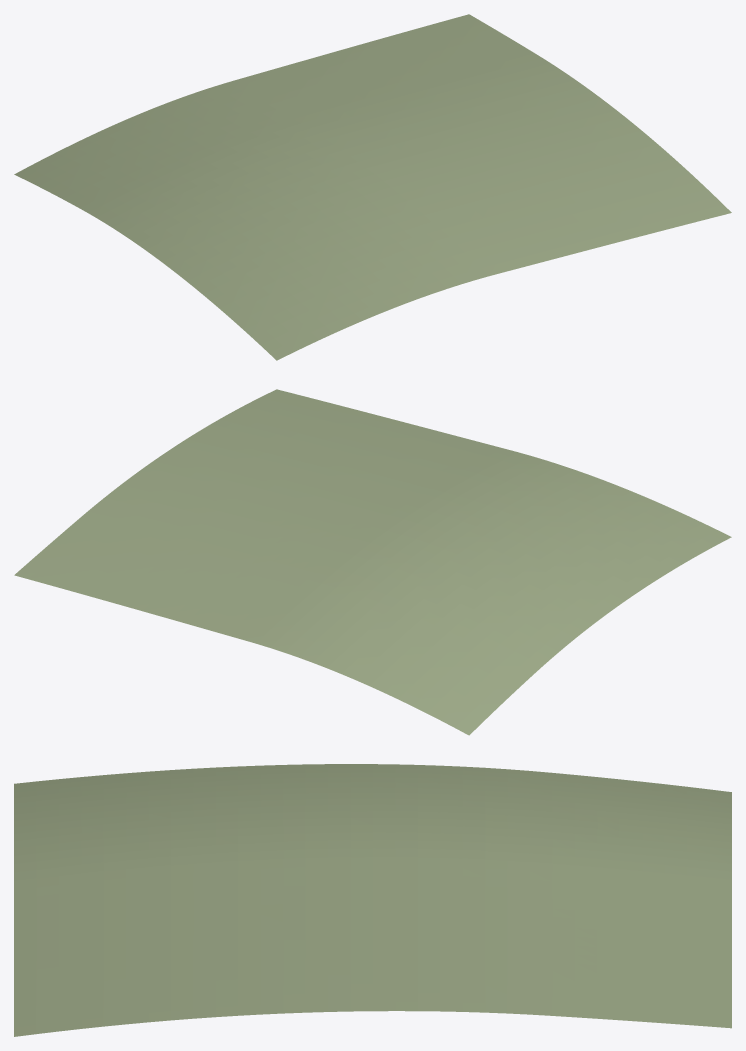
Rendered from expanse-26-17.glb.
3 views of the same model, one above another, from view 1: azimuth 30°, elevation 25°; view 2: azimuth 150°, elevation 25°; view 3: azimuth 270°, elevation 25° (orthographic). The views are drawn at different scales.
Visible parts, largest first — view 1: expanse-26-17; view 2: expanse-26-17; view 3: expanse-26-17.
Part boxes in pixels (x1,y1,x2,y2): expanse-26-17: (14,14,731,360); expanse-26-17: (14,389,731,735); expanse-26-17: (14,764,731,1036).
Bounding box in the file's own units: 256 × 33.24 × 256.
